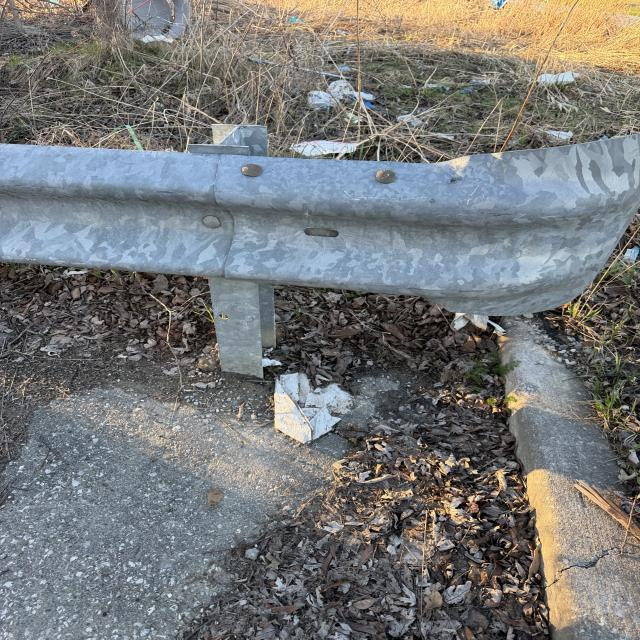Guard rail: (11, 144, 620, 296)
